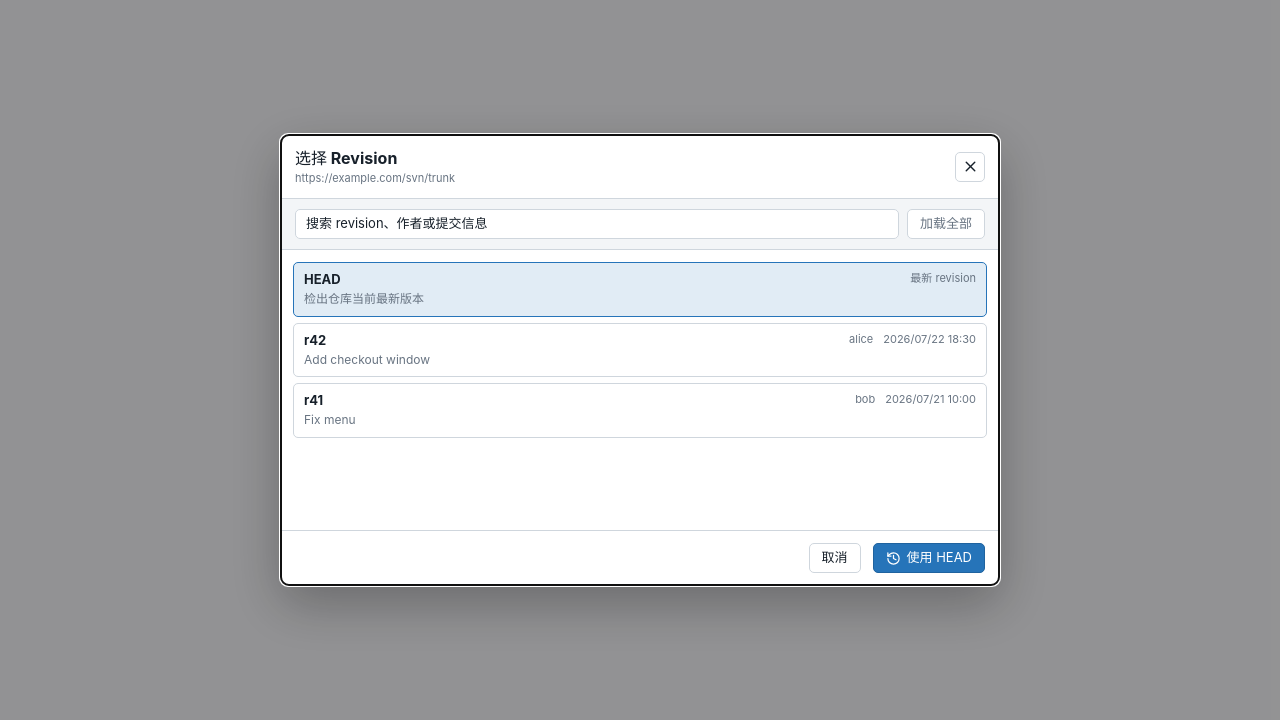
Test: SvnRevisionPickerDialog › 按关键字过滤已加载的 Revision
Expected: the text "Add checkout window" is shown, 304,352 -> 430,366
Expected: the option with aria-label "选择 HEAD" is shown, 293,262 -> 987,317
Type "menu" into the search field labelled "搜索 revision" at (597,224), box 295,209 -> 899,239
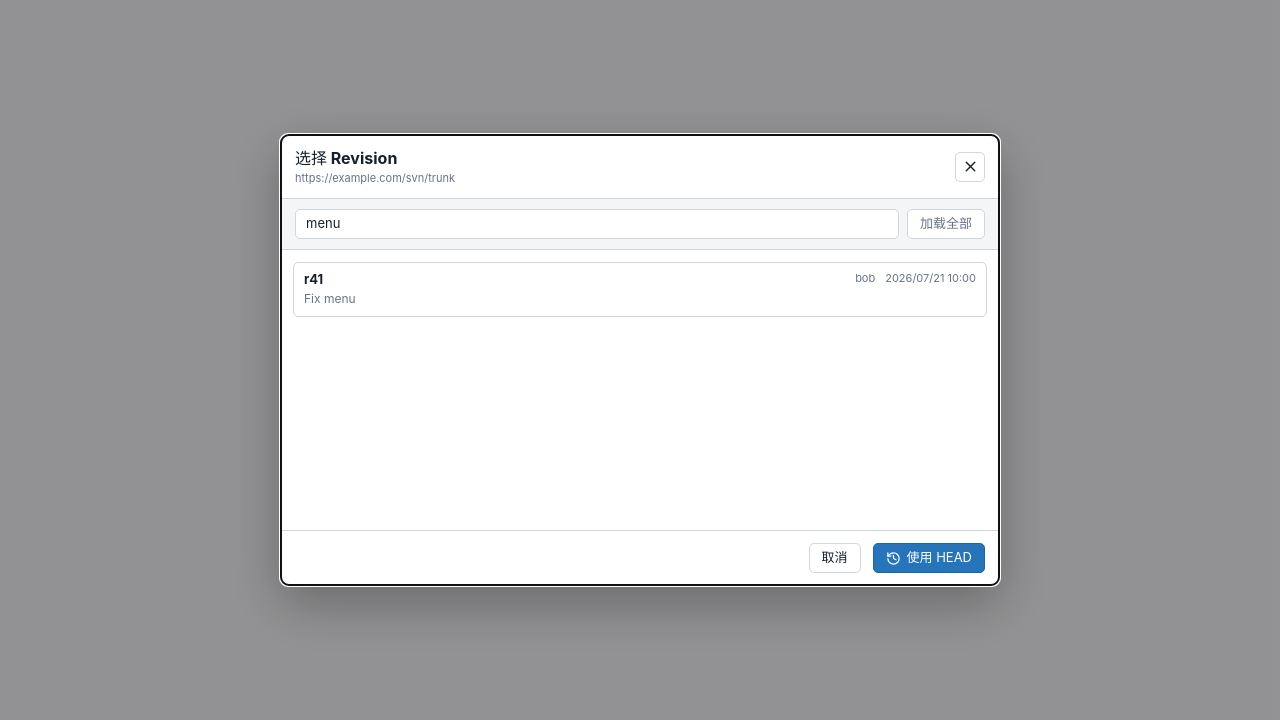
Expected: the text "Fix menu" is shown, 304,291 -> 356,306
Now the option "Add checkout window" is gone
Replace the text in the search field named "搜索 revision" with "nobody" at (597,224), box 295,209 -> 899,239
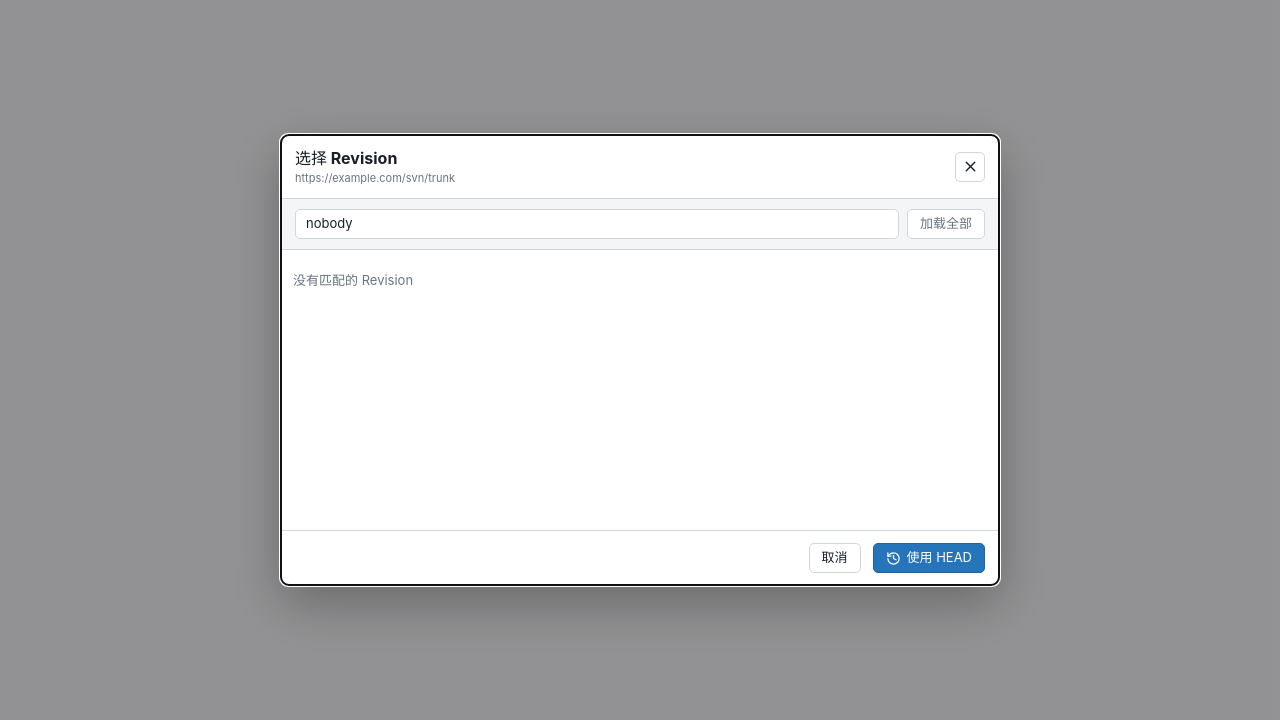
Now the text "没有匹配的 Revision" is shown, box 293,272 -> 413,290
